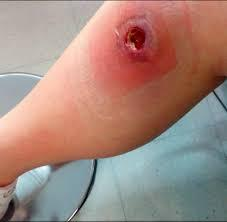Spider: (108, 7, 168, 76)
